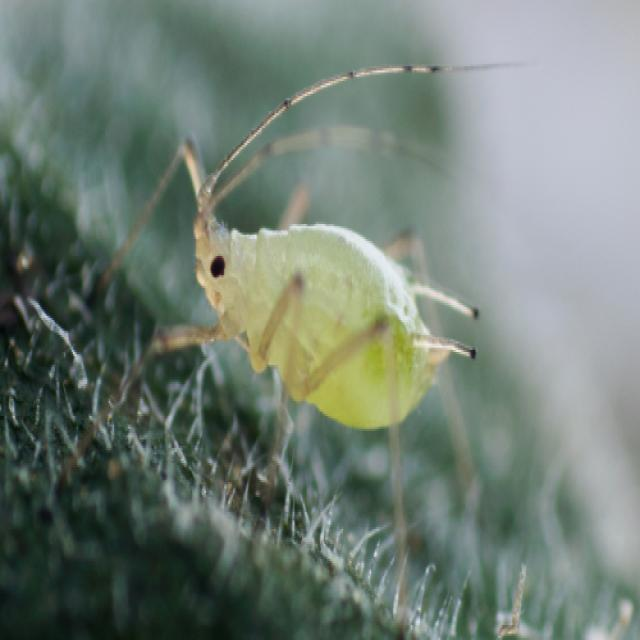Aphid-Grown-: (142, 32, 502, 494)
